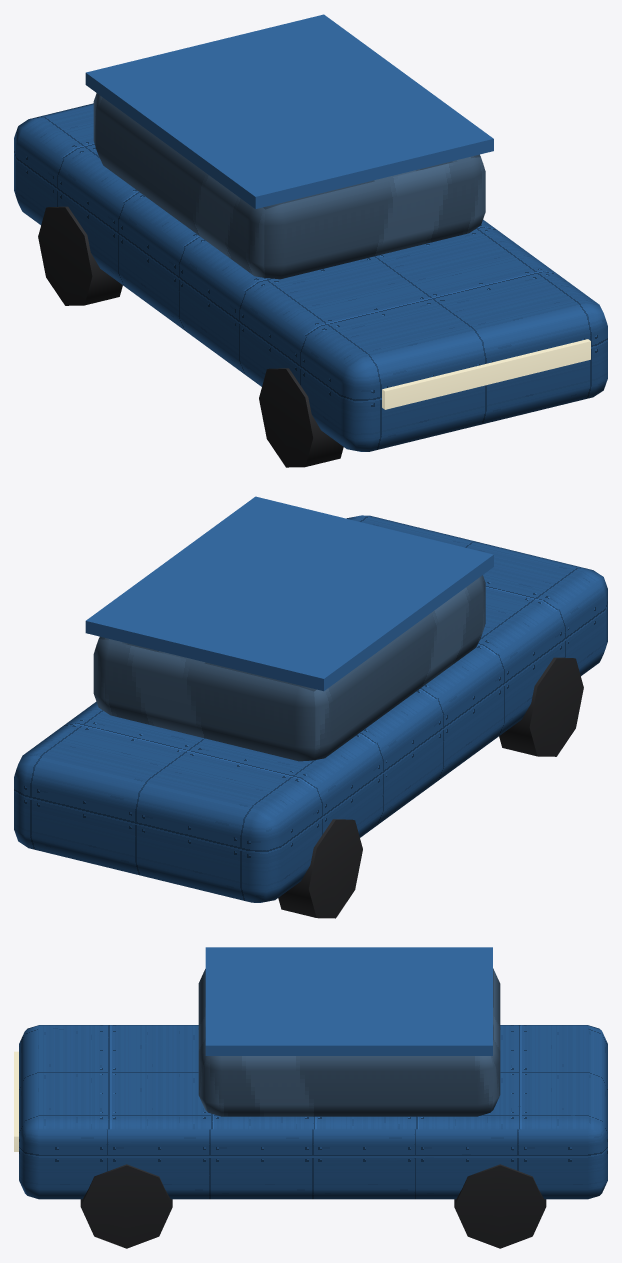
Rendered from carro_estacionado.glb.
3 views of the same model, one above another, from view 1: azimuth 30°, elevation 25°; view 2: azimuth 150°, elevation 25°; view 3: azimuth 270°, elevation 25° (orthographic). The views are drawn at different scales.
Visible parts, largest first — view 1: carro_estacionado, carro_estacionado_metal; view 2: carro_estacionado, carro_estacionado_metal; view 3: carro_estacionado_metal, carro_estacionado.
Boxes of the visible parts, left/top/right/bottom form: carro_estacionado: left=38, top=14, right=590, bottom=467; carro_estacionado_metal: left=14, top=103, right=607, bottom=451; carro_estacionado: left=85, top=496, right=583, bottom=918; carro_estacionado_metal: left=14, top=515, right=607, bottom=902; carro_estacionado_metal: left=19, top=1025, right=607, bottom=1199; carro_estacionado: left=14, top=947, right=546, bottom=1248.
Bounding box in the file's own units: 1.84 × 1.51 × 4.13.
4 materials, 2 textured.
